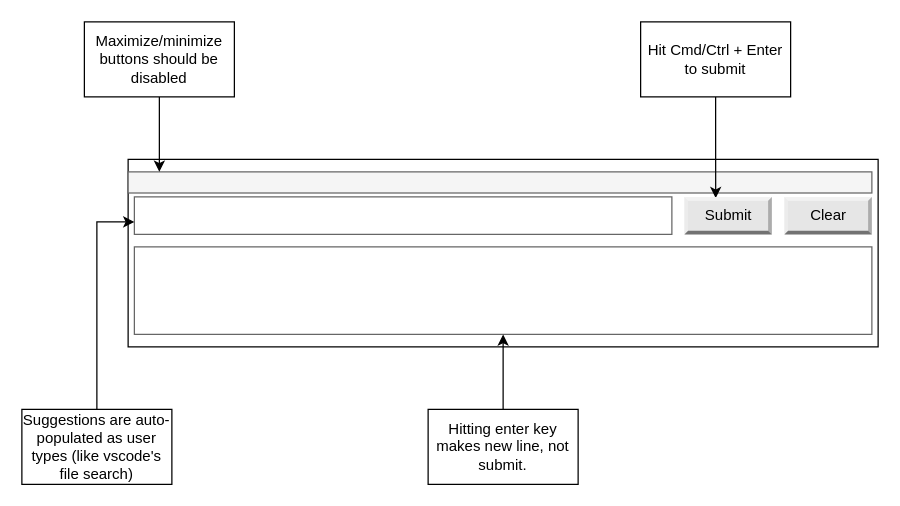
This 900x506 diagram has some shape labels left out. The centre of each missing label's shape, as x and y in pixels:
"Note Details Input ... * bla bla * bla bla bla" goes at point (502, 290).
"Note Subject Input" goes at point (402, 215).
"{x} {-} {+}. Jotter" goes at point (499, 182).
